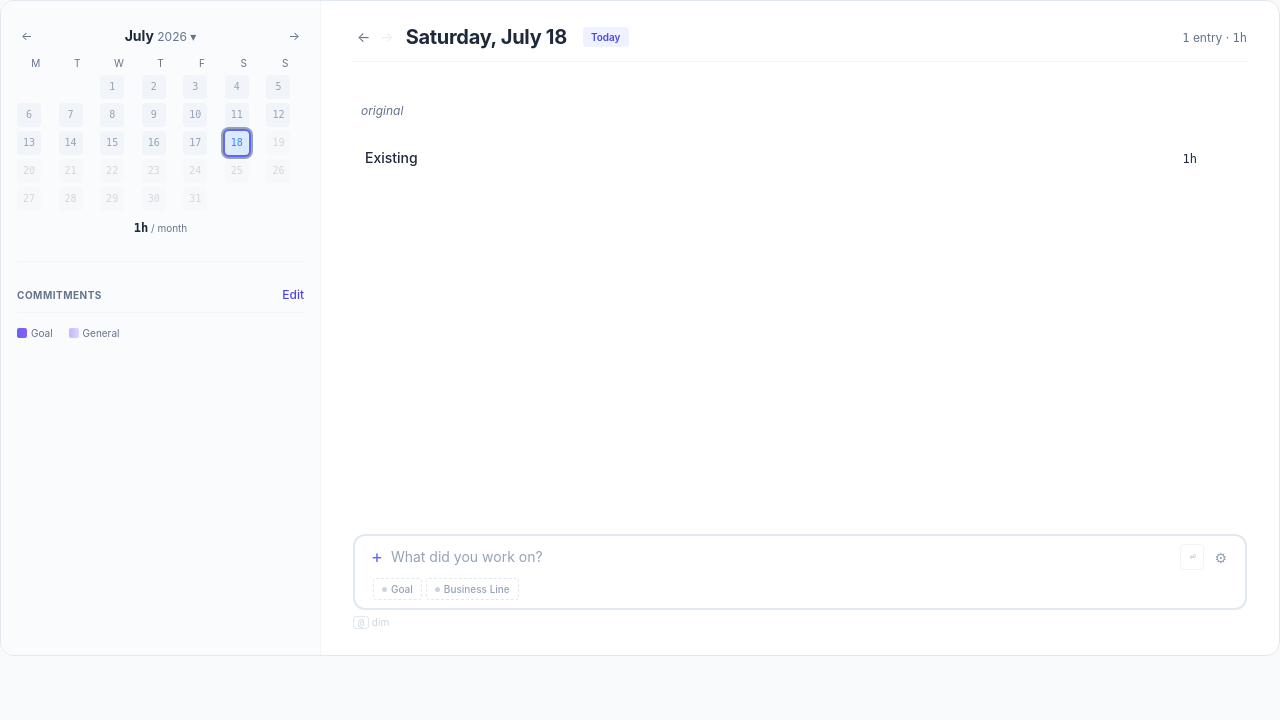
Test: MonthView › Esc on the day note reverts its content to the pre-edit snapshot
Focus the text box labelled "original" at (382, 110), box left=361, top=103, right=403, bottom=118
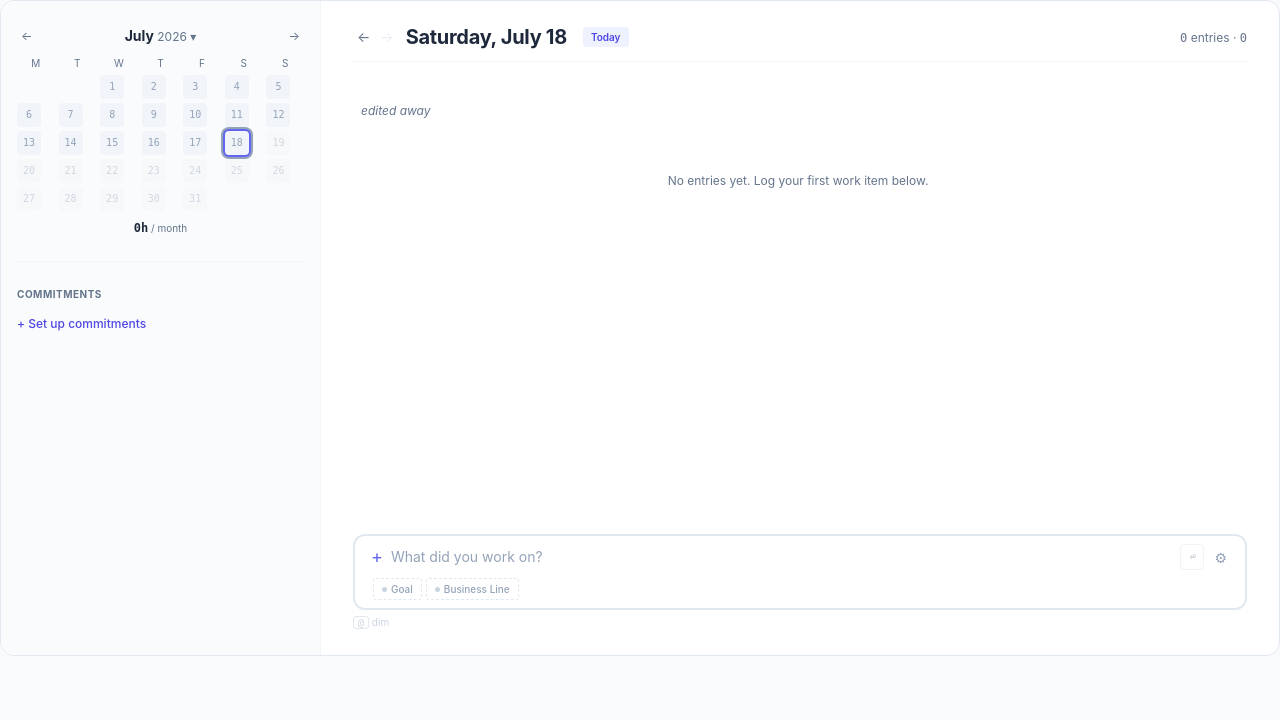
Press Escape in the text box labelled "edited away", box left=361, top=103, right=430, bottom=118
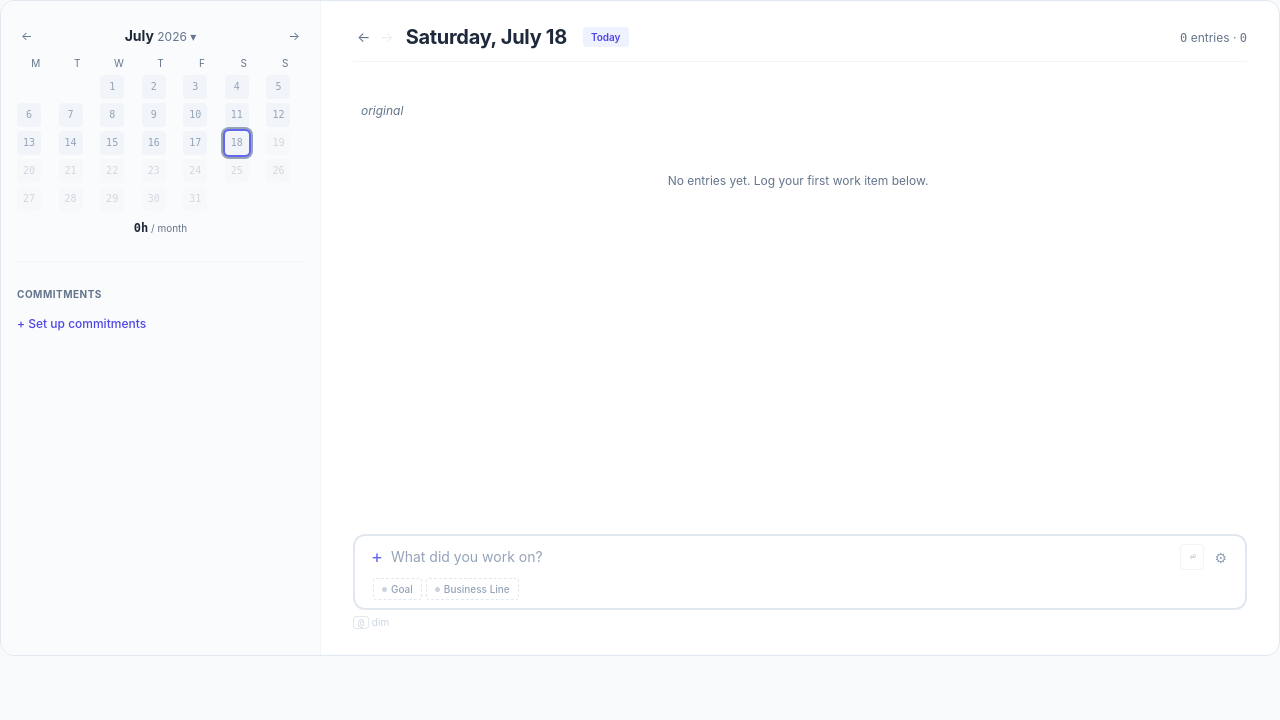
Result: the text box labelled "original" is shown at left=361, top=103, right=403, bottom=118
